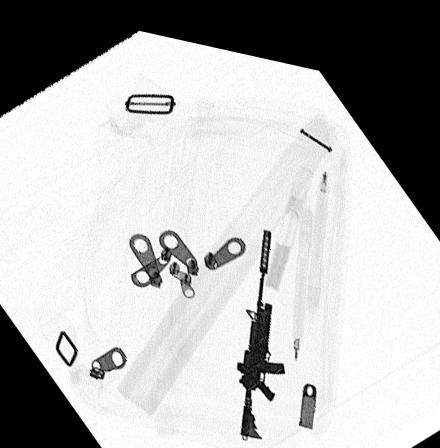Gun: (236, 216, 287, 428)
